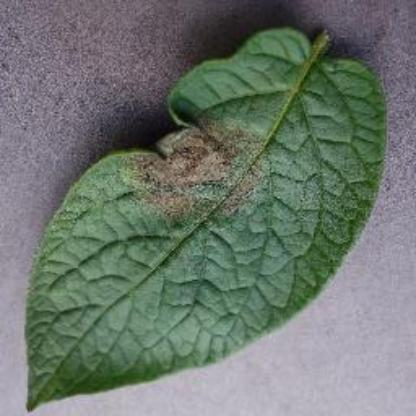Late-Blight: (25, 24, 388, 411)
